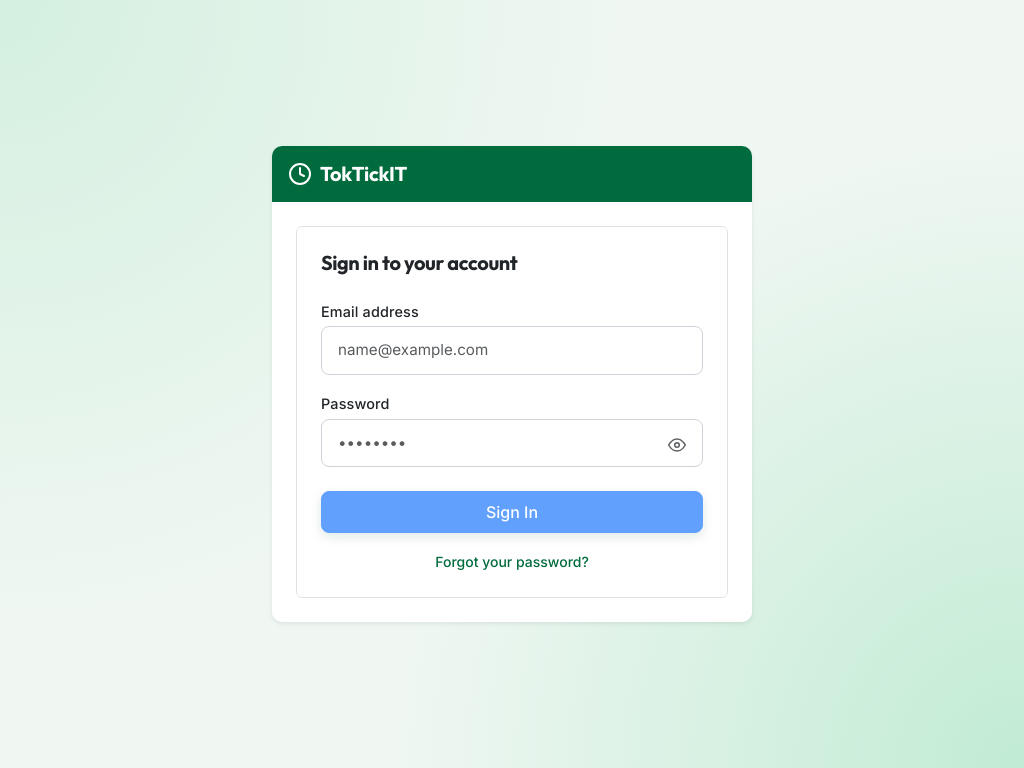
Scenario: Login Component › disables button when fields are empty
This screenshot has width=1024, height=768.
Expected: the button "Sign In" is disabled, [321,491,703,533]
// Fill one
Type "test@example.com" into the field labelled "Email address" at (512, 351), box [321,326,703,375]
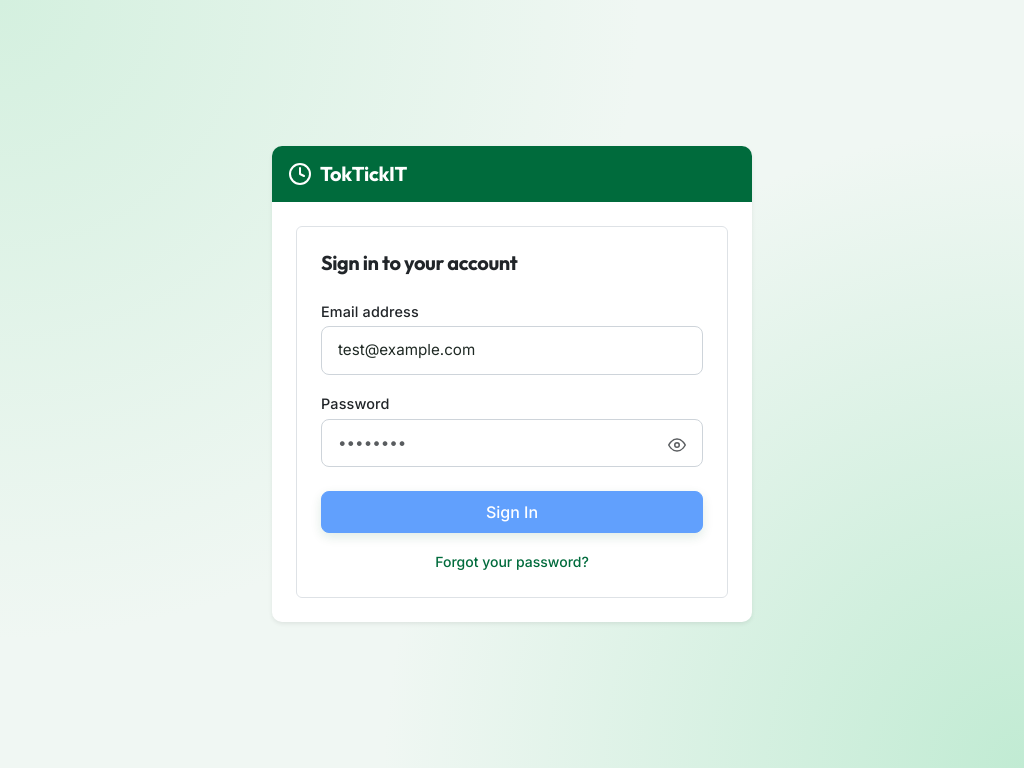
Expected: the button "Sign In" is disabled, [321,491,703,533]
// Fill both
Type "password" into the password field labelled "Password" at (512, 443), box [321,419,703,467]
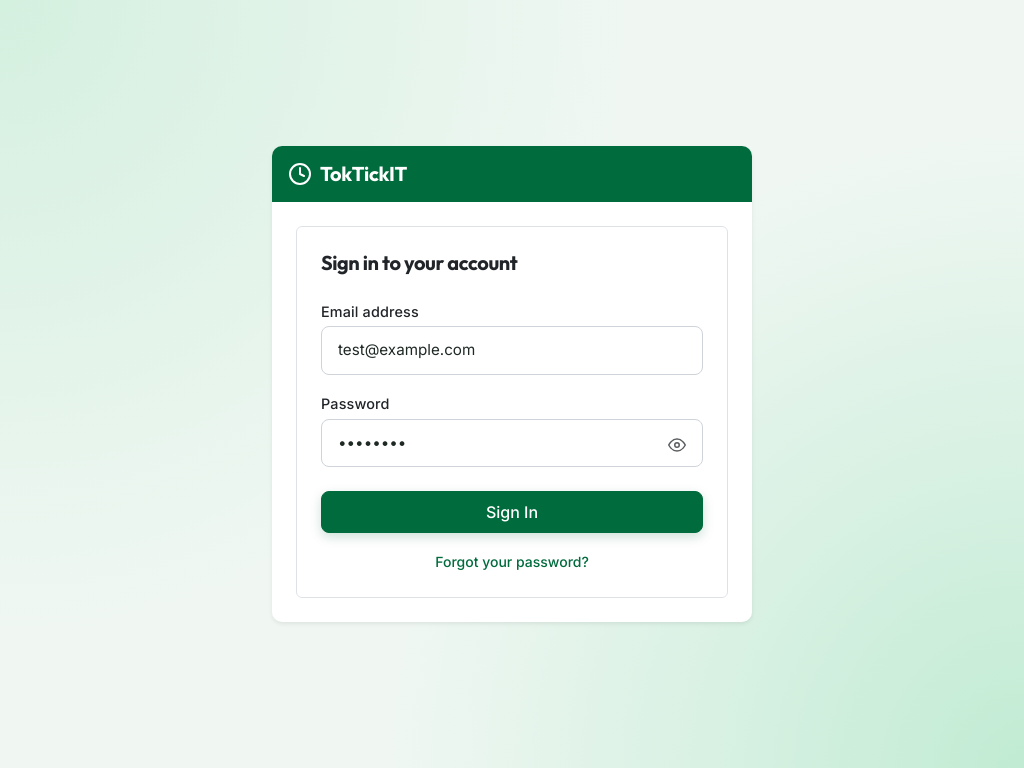
Now the button "Sign In" is enabled, box [321,491,703,533]
